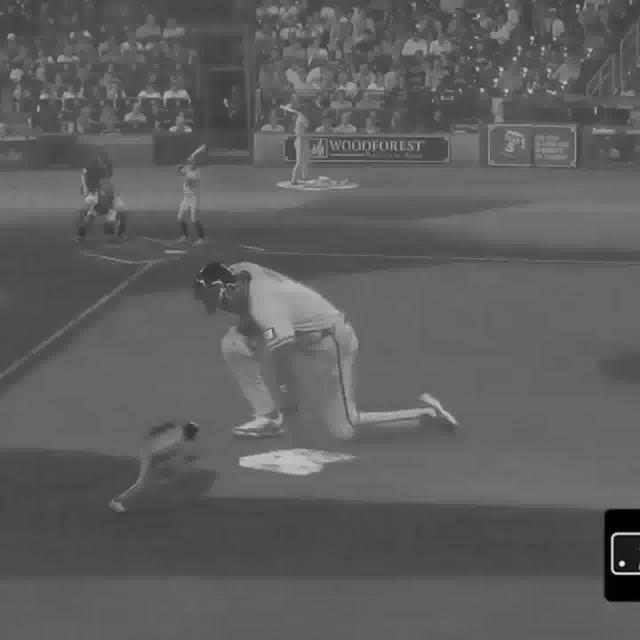base: (238, 448, 362, 474), (165, 248, 186, 256)
